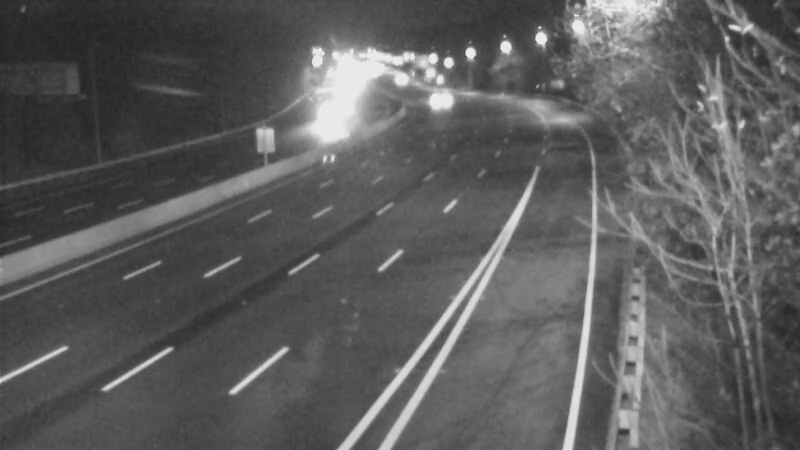vehicle: (371, 53, 421, 103), (402, 66, 452, 116), (303, 93, 353, 143)
